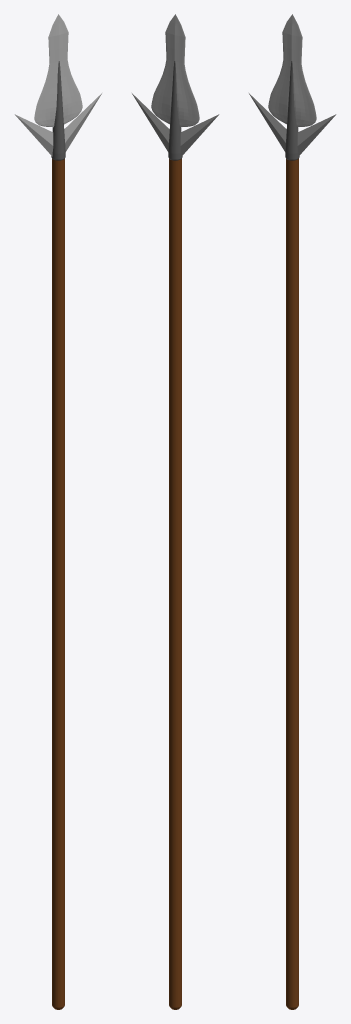
The model's file is Medieval Spear.fbx.
3 views of the same model, side by side, from view 1: azimuth 30°, elevation 25°; view 2: azimuth 150°, elevation 25°; view 3: azimuth 330°, elevation 25° (orthographic).
Parts seen in each view (by area): view 1: Cube.002; view 2: Cube.002; view 3: Cube.002.
Boxes of the visible parts, left/top/right/bottom form: Cube.002: left=14, top=14, right=101, bottom=1009; Cube.002: left=132, top=14, right=219, bottom=1009; Cube.002: left=249, top=14, right=336, bottom=1009.
Bounding box in the file's own units: 13.42 × 144 × 1.86.
